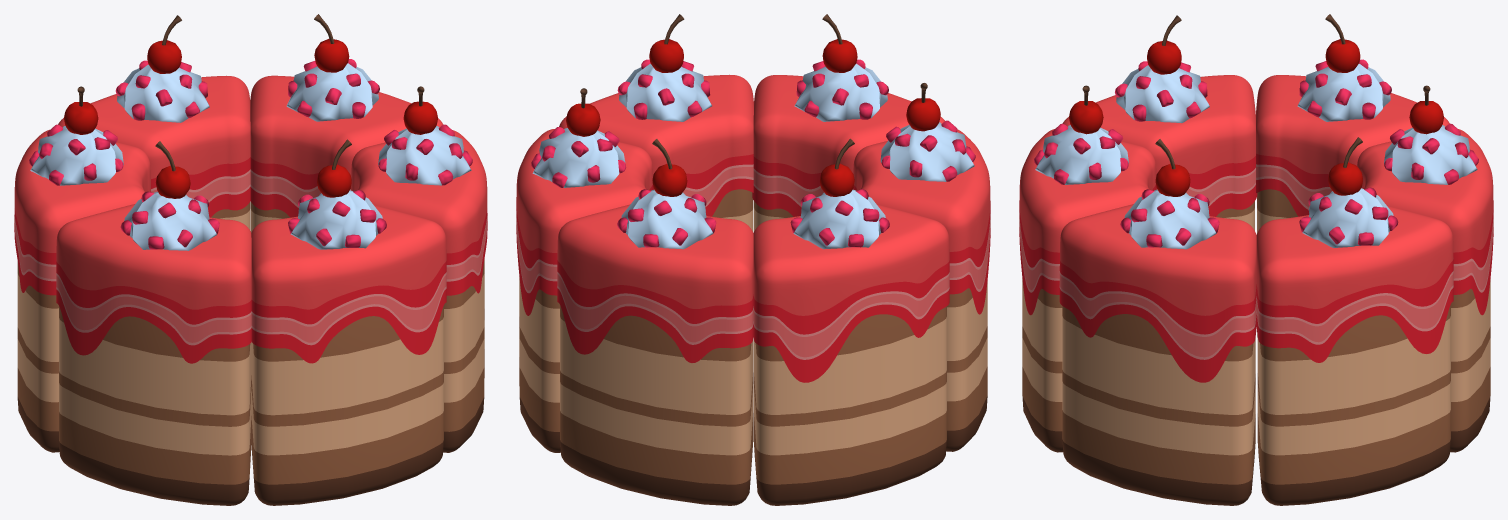
Rendered from RedCake.fbx.
The picture shows the model from 3 angles, left to right: view 1: azimuth 30°, elevation 25°; view 2: azimuth 150°, elevation 25°; view 3: azimuth 270°, elevation 25°; orthographic projection.
Visible parts, largest first — view 1: Red; view 2: Red; view 3: Red.
Part boxes in pixels (x1,y1,x2,y2): Red: [14, 14, 487, 505]; Red: [516, 14, 990, 505]; Red: [1019, 14, 1493, 505].
Size of the model in its own units: 58.44 by 45.78 by 58.76.
Materials: 1 (1 with a texture image).
